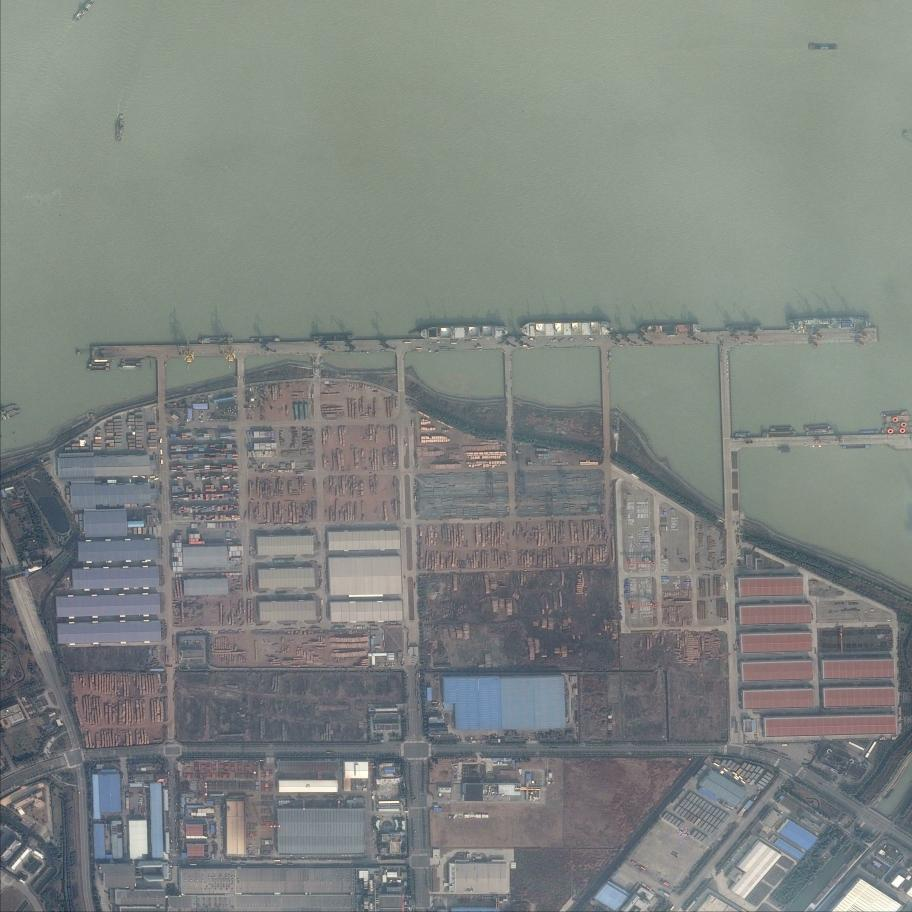large-vehicle: (807, 43, 839, 50), (414, 663, 418, 671), (809, 751, 816, 755), (172, 643, 176, 650), (172, 635, 175, 643), (175, 837, 178, 844), (166, 675, 169, 682), (417, 693, 420, 700), (421, 716, 424, 723), (165, 656, 168, 662), (415, 674, 417, 682), (416, 672, 418, 680), (415, 681, 417, 689), (417, 684, 419, 692), (204, 860, 211, 862), (166, 648, 168, 655), (173, 773, 175, 780), (175, 828, 177, 835), (287, 864, 294, 866), (418, 671, 420, 678), (415, 690, 417, 697), (418, 703, 420, 709), (418, 710, 420, 715)
ship: (520, 320, 614, 336), (420, 324, 508, 340), (789, 317, 873, 330), (639, 324, 702, 334), (311, 335, 357, 341), (726, 324, 764, 331), (115, 114, 124, 142), (198, 337, 233, 344), (804, 424, 831, 432), (762, 431, 797, 437), (880, 410, 908, 417), (806, 429, 834, 436), (250, 337, 281, 343), (841, 444, 871, 450), (843, 842, 854, 856), (118, 365, 142, 370), (87, 366, 110, 371), (770, 426, 793, 431), (779, 445, 791, 453), (860, 429, 878, 434), (88, 363, 110, 367), (121, 362, 141, 366), (88, 359, 113, 362), (122, 359, 145, 362), (735, 433, 750, 437), (810, 445, 822, 448)
small-vehicle: (727, 372, 729, 375), (459, 735, 461, 738), (407, 674, 409, 677), (456, 735, 458, 738), (491, 765, 493, 768), (471, 740, 473, 743), (727, 365, 729, 367), (727, 350, 729, 352), (721, 360, 723, 362), (738, 556, 740, 558), (755, 735, 757, 737), (750, 741, 752, 743), (744, 741, 746, 743), (489, 758, 491, 760), (729, 348, 731, 350), (481, 470, 484, 471), (201, 418, 204, 419), (727, 361, 728, 364), (206, 418, 209, 419), (206, 410, 209, 411), (233, 393, 236, 394), (727, 358, 728, 361), (745, 343, 748, 344), (754, 733, 757, 734), (458, 735, 459, 738), (727, 368, 728, 370), (728, 379, 729, 381), (199, 415, 201, 416), (201, 413, 203, 414), (201, 414, 203, 415), (201, 415, 203, 416), (201, 416, 203, 417), (738, 551, 740, 552), (234, 396, 236, 397), (199, 417, 201, 418), (201, 421, 203, 422), (210, 419, 212, 420), (207, 412, 209, 413), (207, 413, 209, 414), (207, 414, 209, 415), (207, 415, 209, 416), (207, 416, 209, 417), (234, 395, 236, 396), (742, 735, 743, 737), (746, 741, 747, 743), (721, 357, 722, 359), (738, 553, 740, 554), (738, 554, 740, 555), (755, 737, 757, 738), (749, 741, 750, 743), (488, 758, 489, 760), (487, 758, 488, 760), (475, 741, 476, 743), (474, 741, 475, 743), (473, 741, 474, 743), (747, 742, 748, 743), (201, 417, 203, 417), (207, 417, 209, 417)
